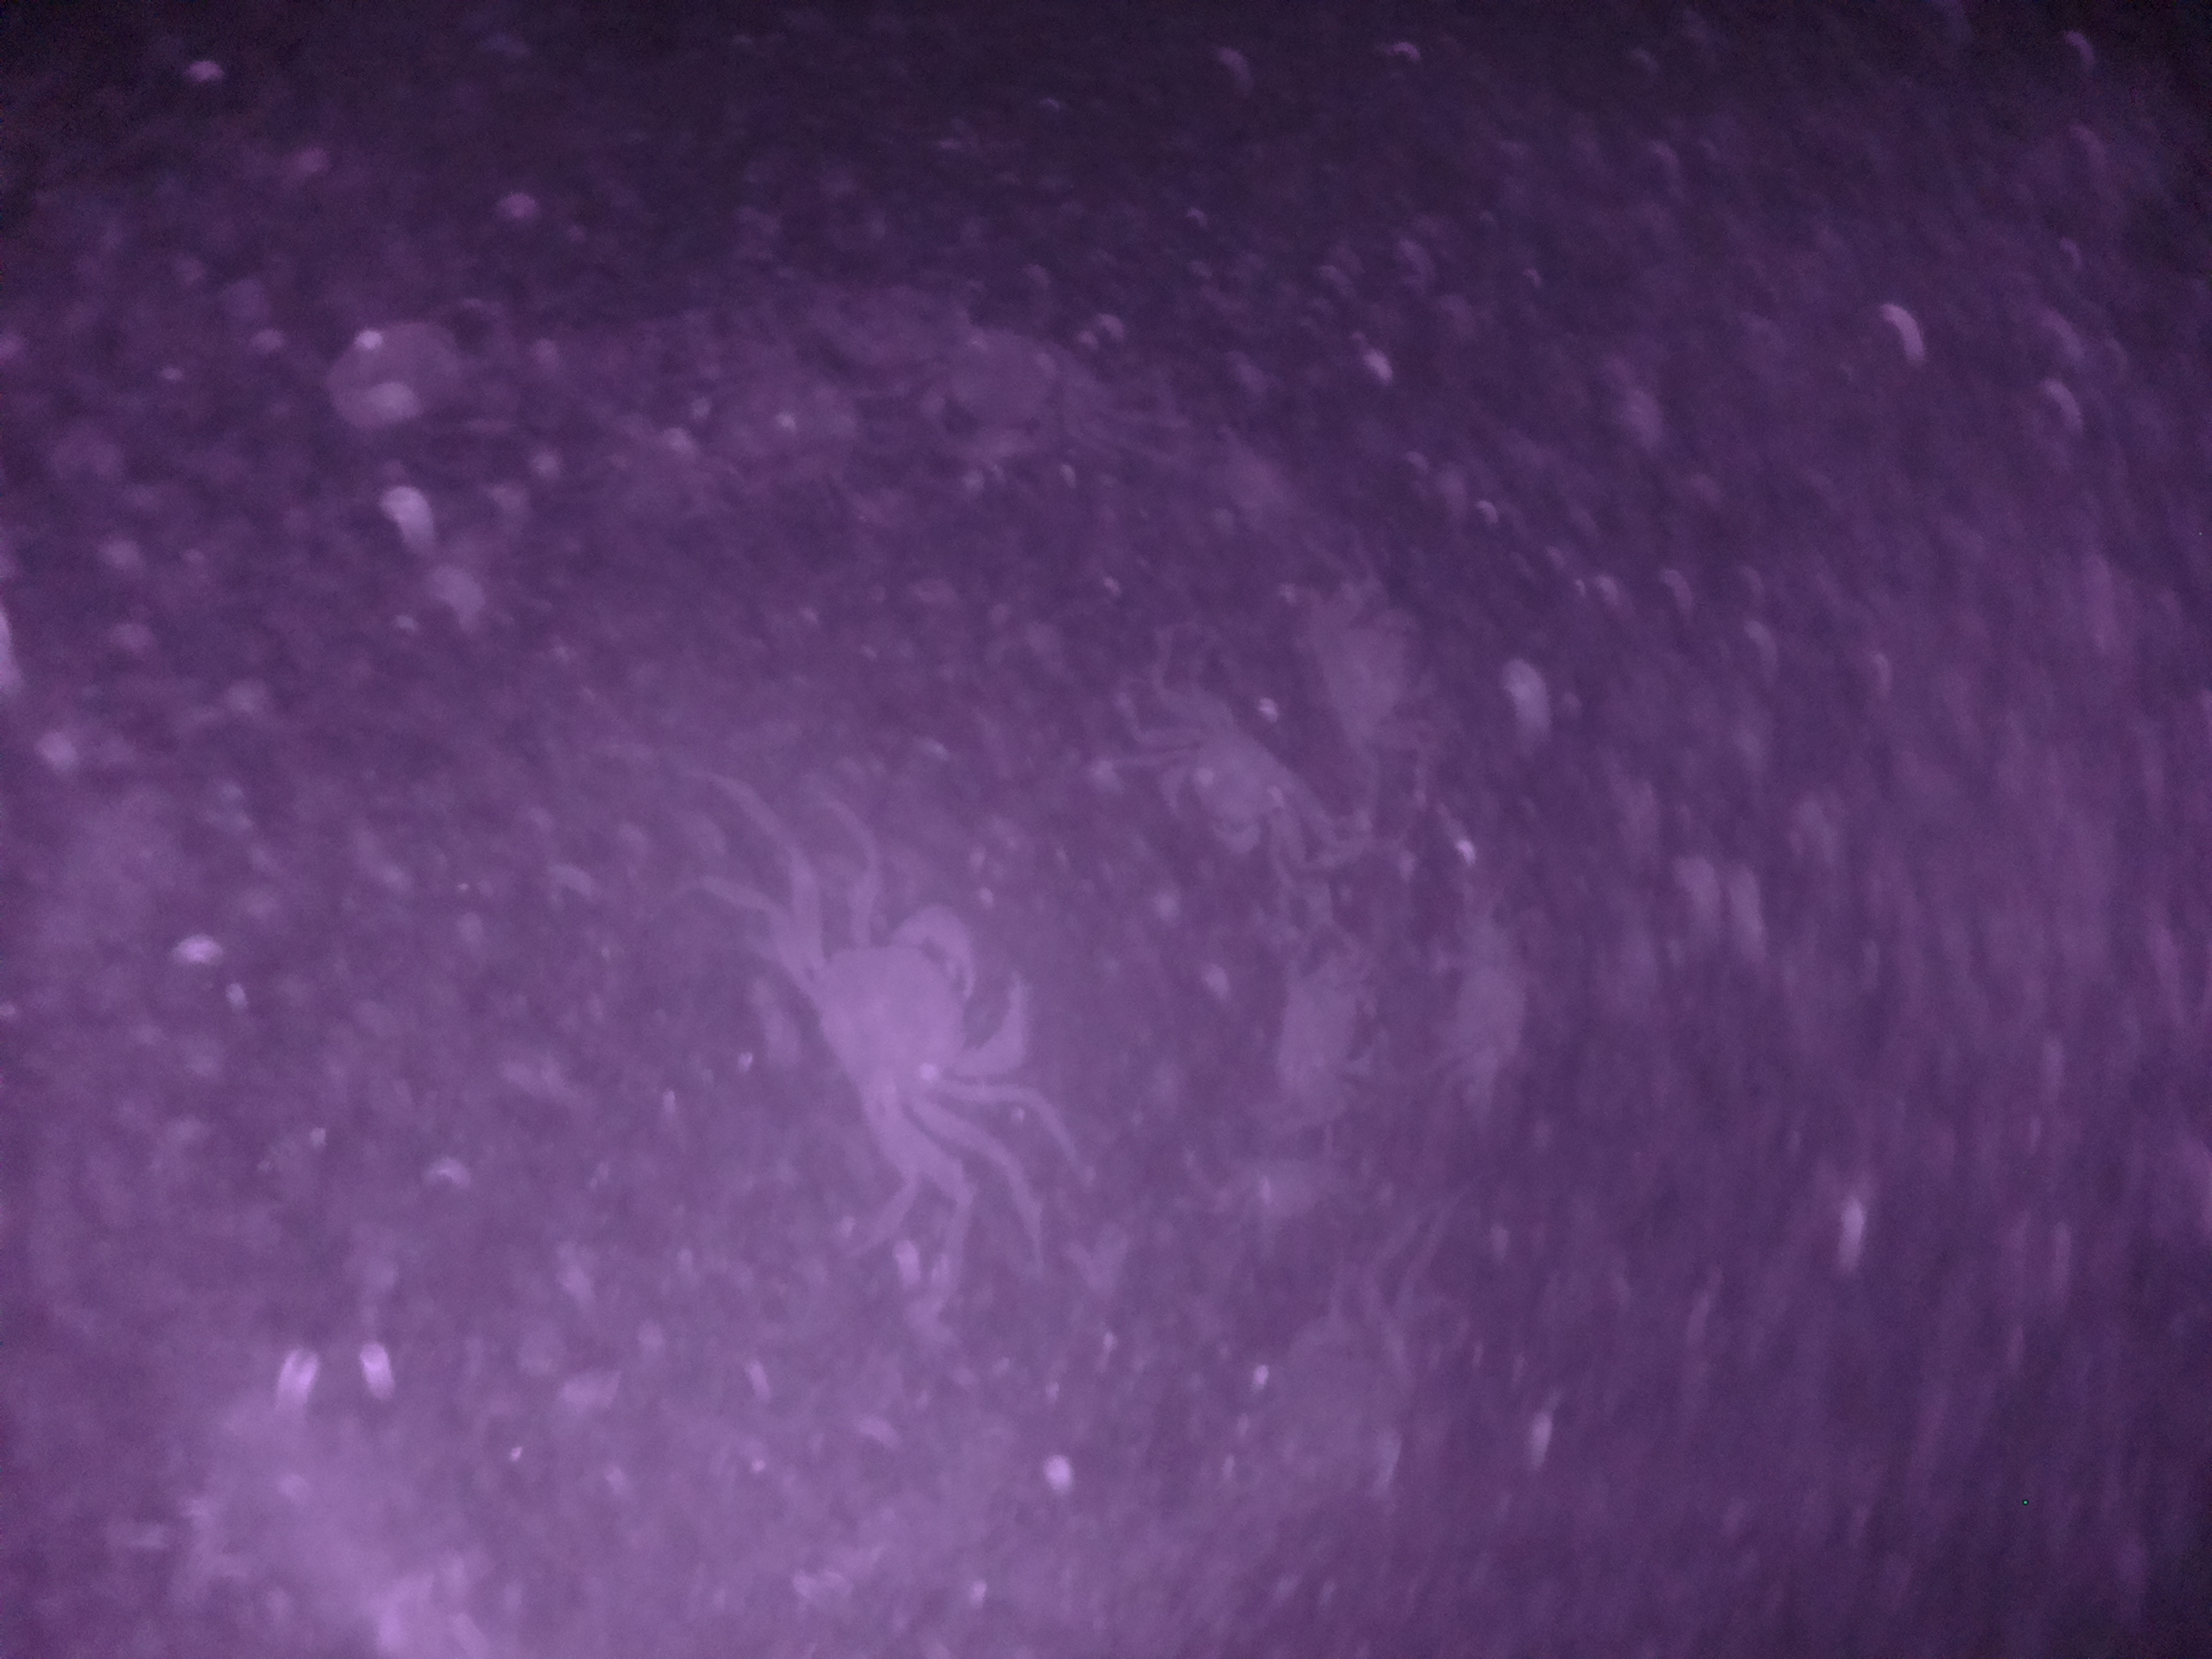Crab: (779, 884, 1052, 1140), (1305, 565, 1463, 781), (1252, 945, 1400, 1129), (1165, 697, 1310, 870)
